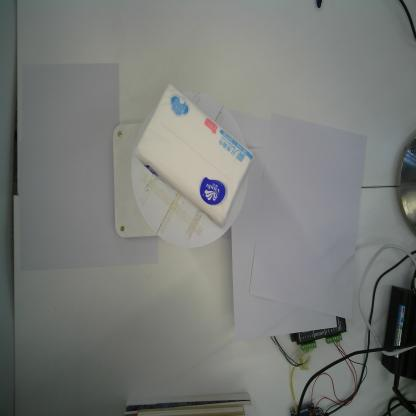Tissue: (134, 83, 254, 230)
